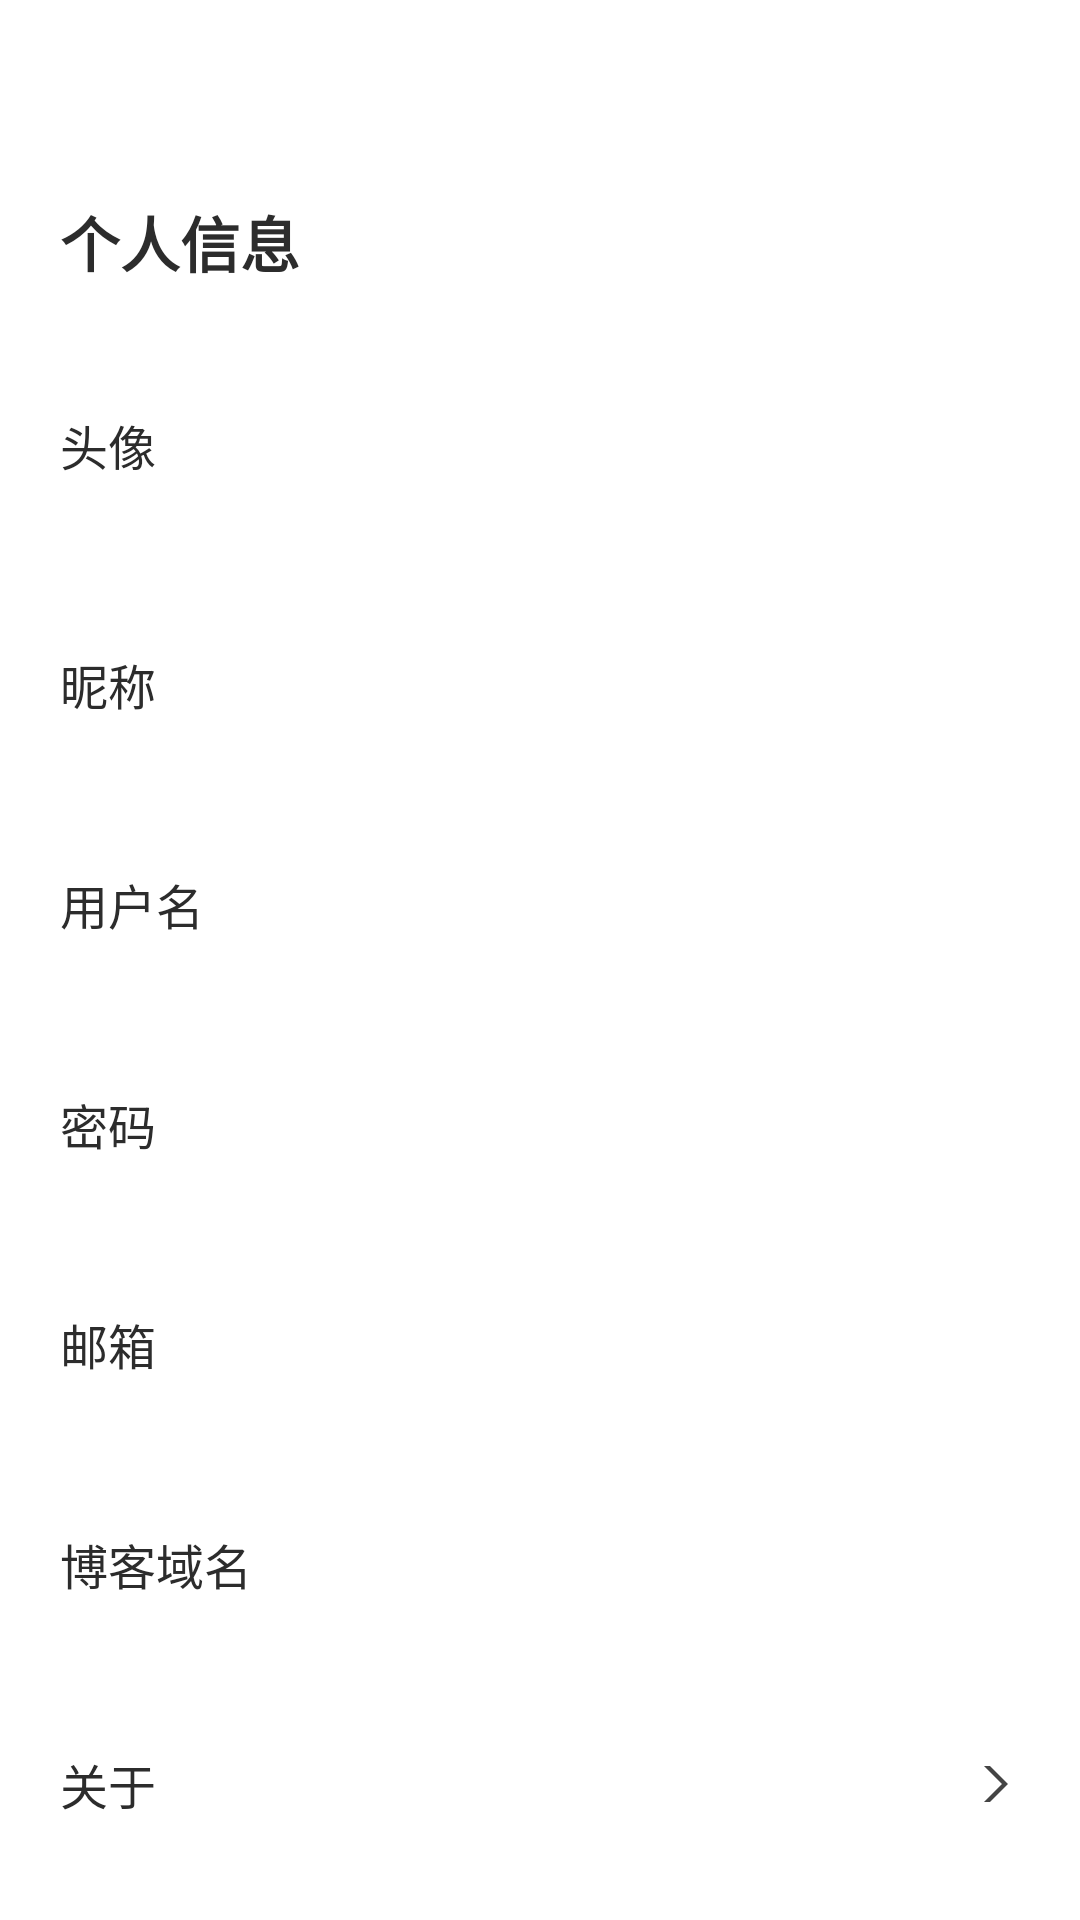

Screen size 1080*1920. Icon name, then its box in pixels as region(x1, y1, x2, y2):
list next: region(984, 1766, 1008, 1802)
